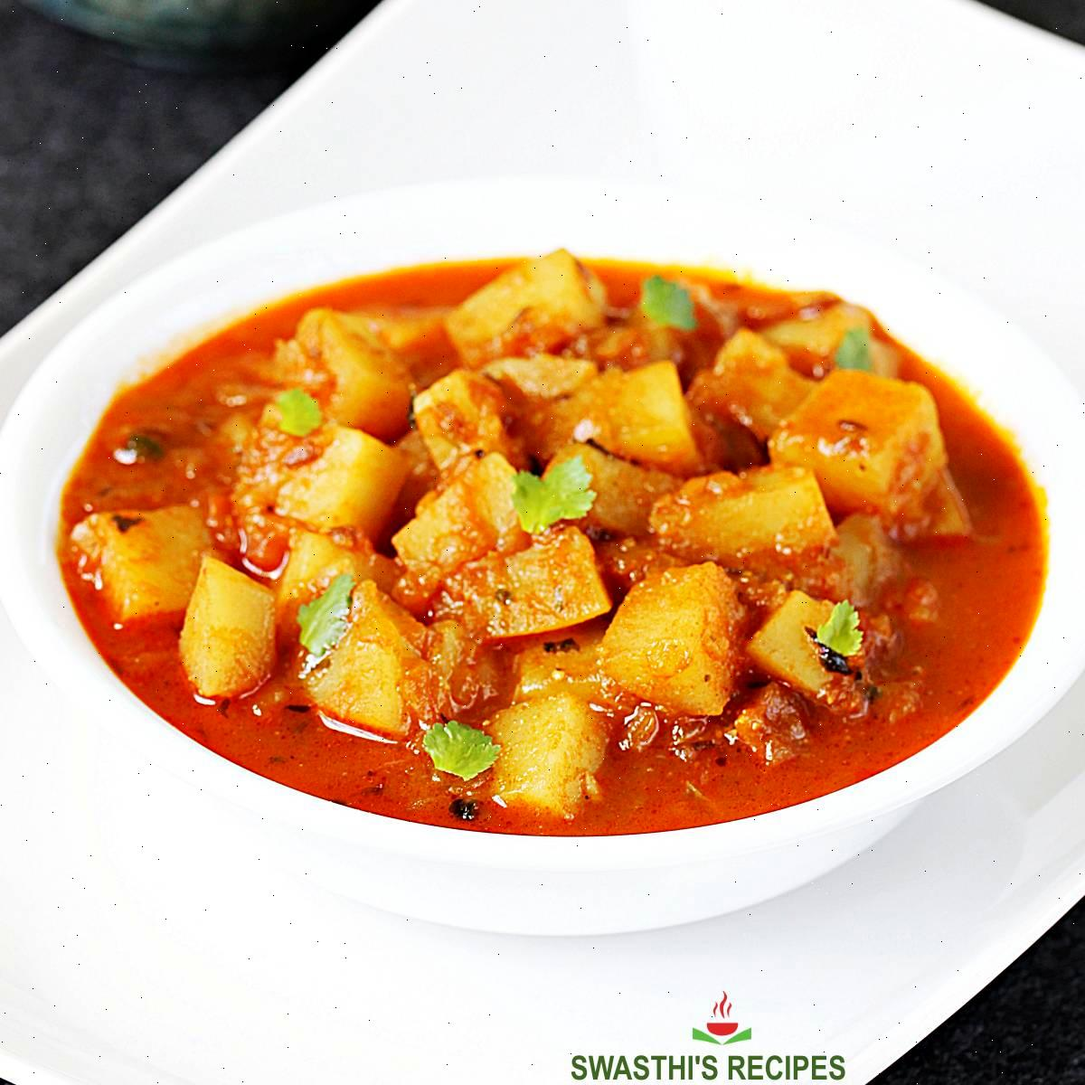aloo sabji: (137, 296, 999, 806)
